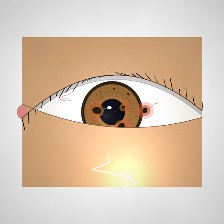foreign_body_visible: (130, 99, 160, 122)
